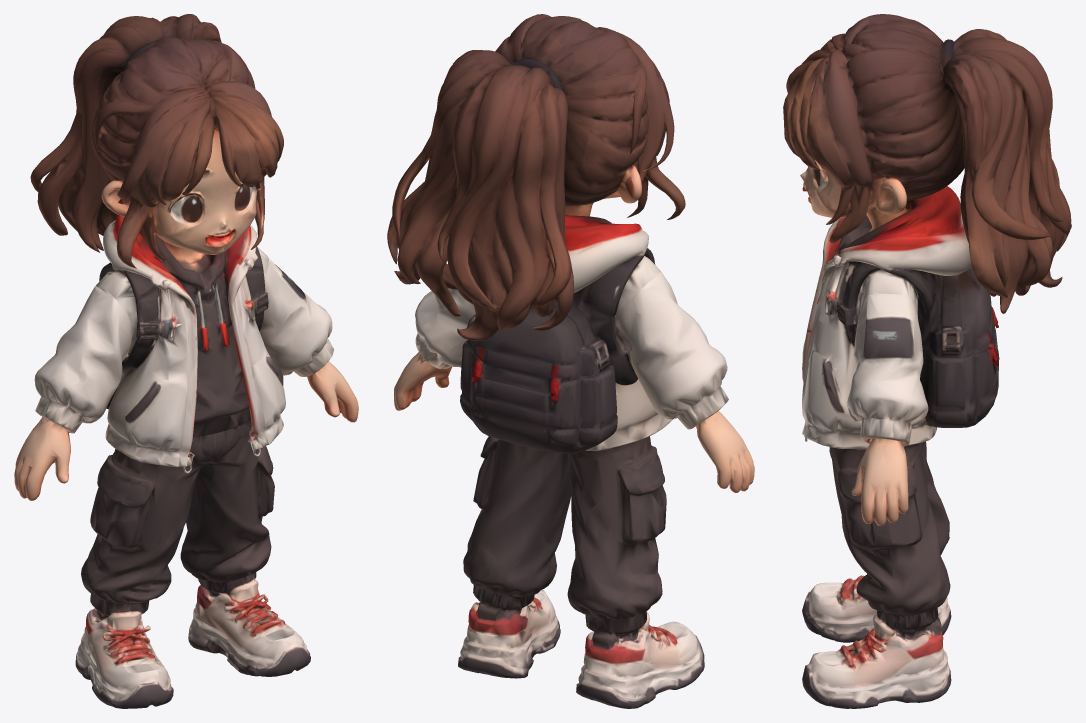
File: avatar-white.glb
The picture shows the model from 3 angles, left to right: view 1: azimuth 30°, elevation 25°; view 2: azimuth 150°, elevation 25°; view 3: azimuth 270°, elevation 25°; orthographic projection. The views are drawn at different scales.
Parts seen in each view (by area): view 1: node_0; view 2: node_0; view 3: node_0.
Boxes of the visible parts, box(x1,y1,x2,y2) form: node_0: box(14, 14, 358, 708); node_0: box(387, 14, 754, 708); node_0: box(783, 14, 1071, 708).
Bounding box in the file's own units: 0.6298 × 1.11 × 0.4568.
Materials: 1 (1 with a texture image).
